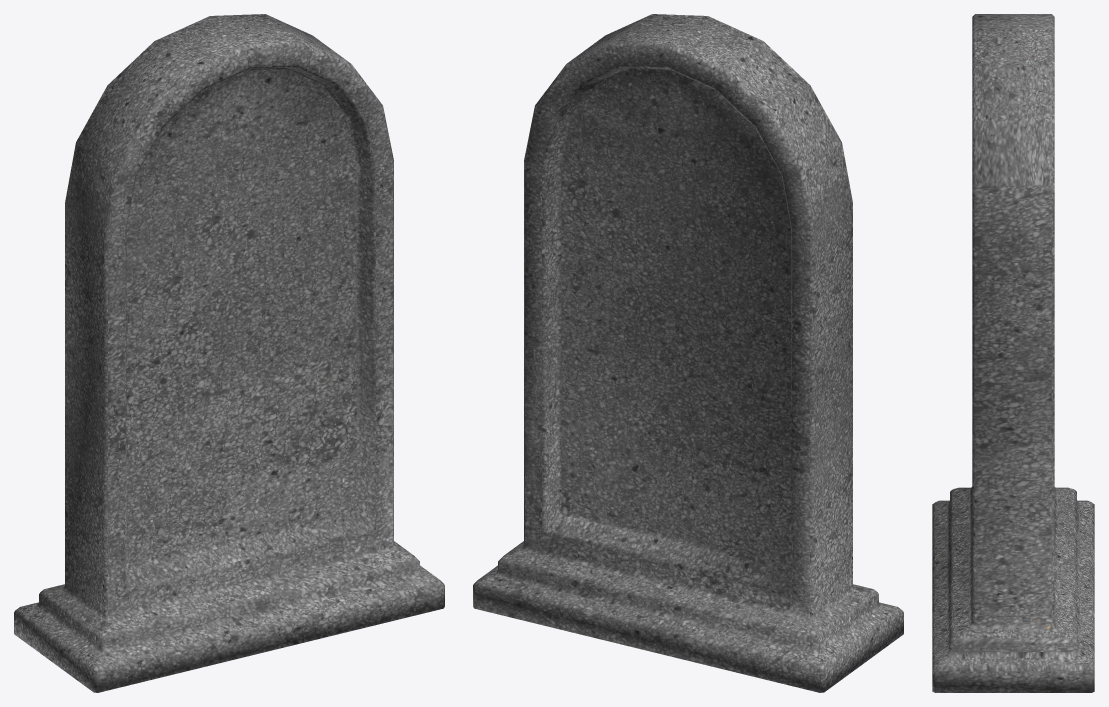
The model's file is CrackedTombstone.fbx.
3 views of the same model, side by side, from view 1: azimuth 30°, elevation 25°; view 2: azimuth 150°, elevation 25°; view 3: azimuth 270°, elevation 25° (orthographic).
Parts seen in each view (by area): view 1: CrackedTomstone.001; view 2: CrackedTomstone.001; view 3: CrackedTomstone.001.
Boxes of the visible parts, x1,y1,x2,y2 form: CrackedTomstone.001: (14,14,444,692); CrackedTomstone.001: (473,14,903,692); CrackedTomstone.001: (932,14,1094,692).
Size of the model in its own units: 2.42 by 3.89 by 0.9869.
Materials: 1 (1 with a texture image).
